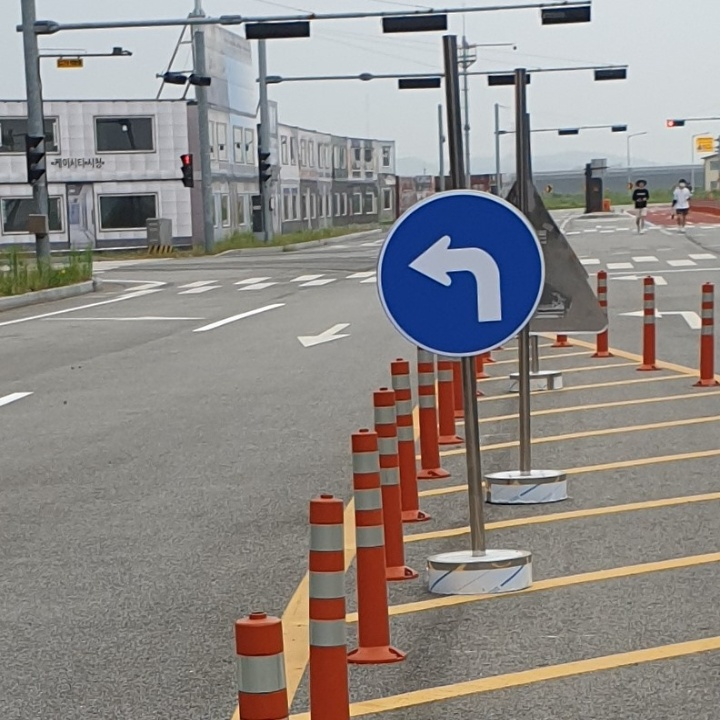left: (401, 231, 512, 333)
